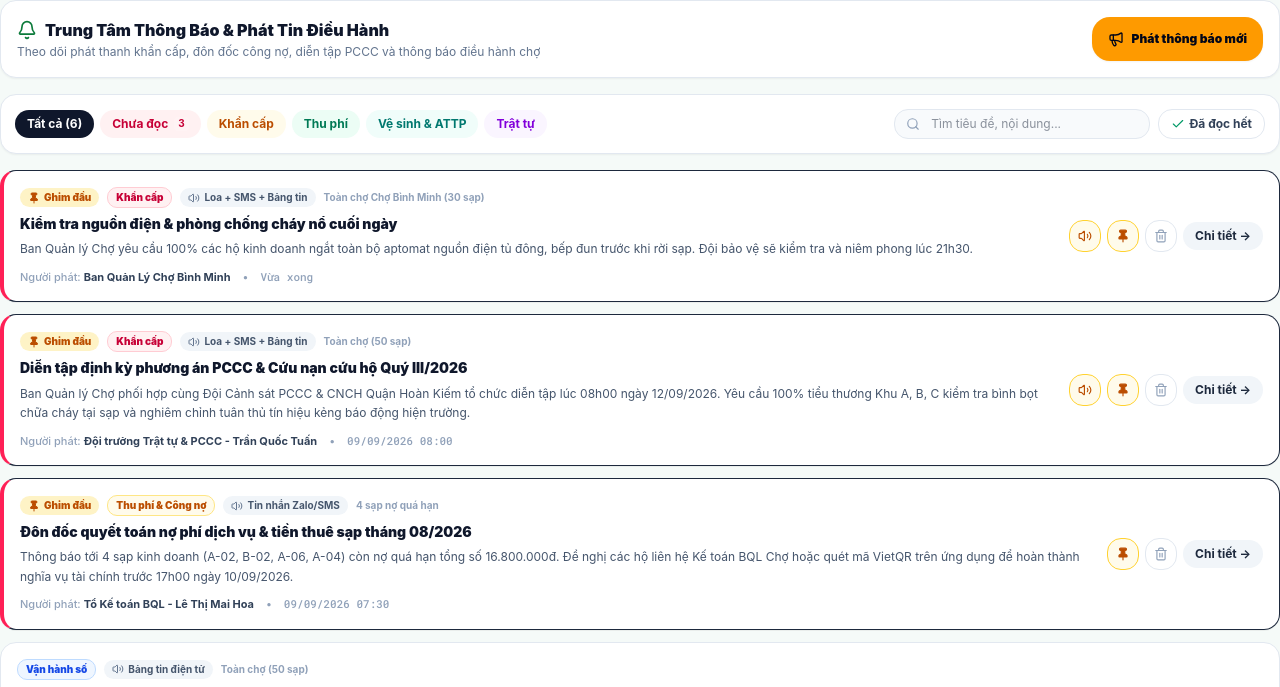
Test: Controlled Repairs Verification Suite (F-01, F-02, F-03) › B-06: filters notifications by category tabs including sanitation and order
Note: Click filter "Vệ sinh & ATTP"
Click the button "Vệ sinh & ATTP" at x=422, y=124, box [366,110,478,138]
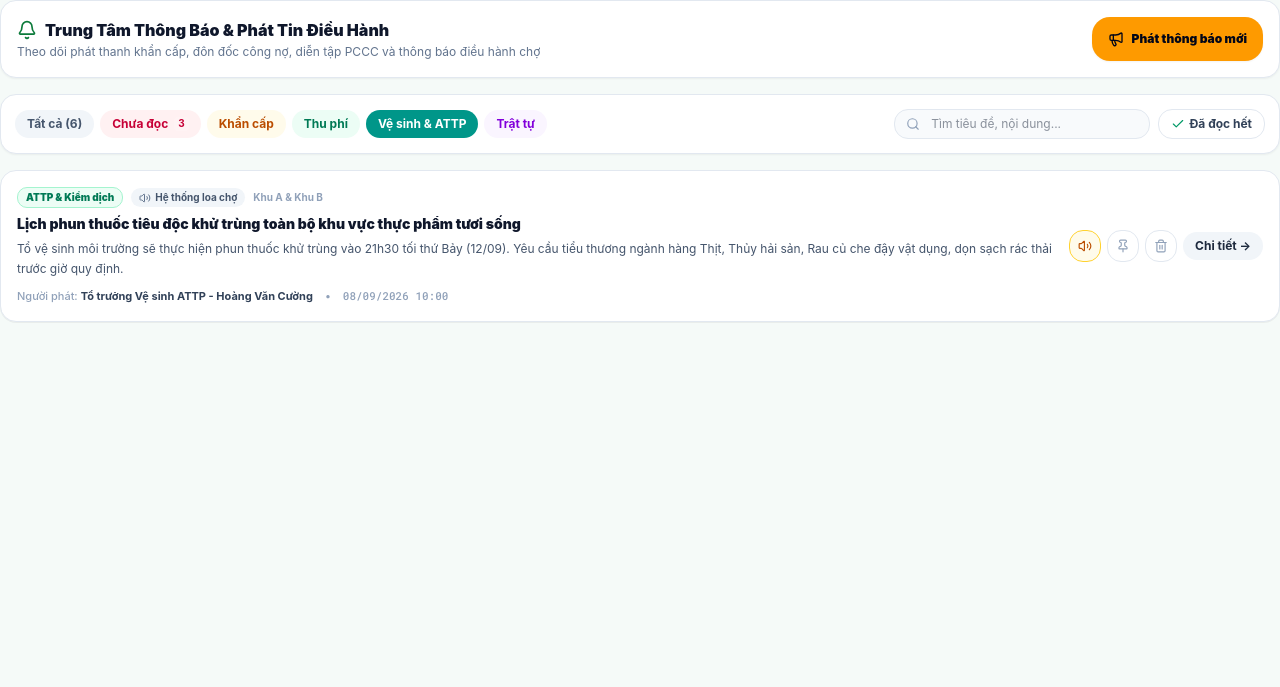
Expected: the heading "Lịch phun thuốc tiêu độc khử trùng" is shown, [17,215,521,232]
Note: Click filter "Trật tự"
Click the button "Trật tự" at x=516, y=124, box [484,110,547,138]
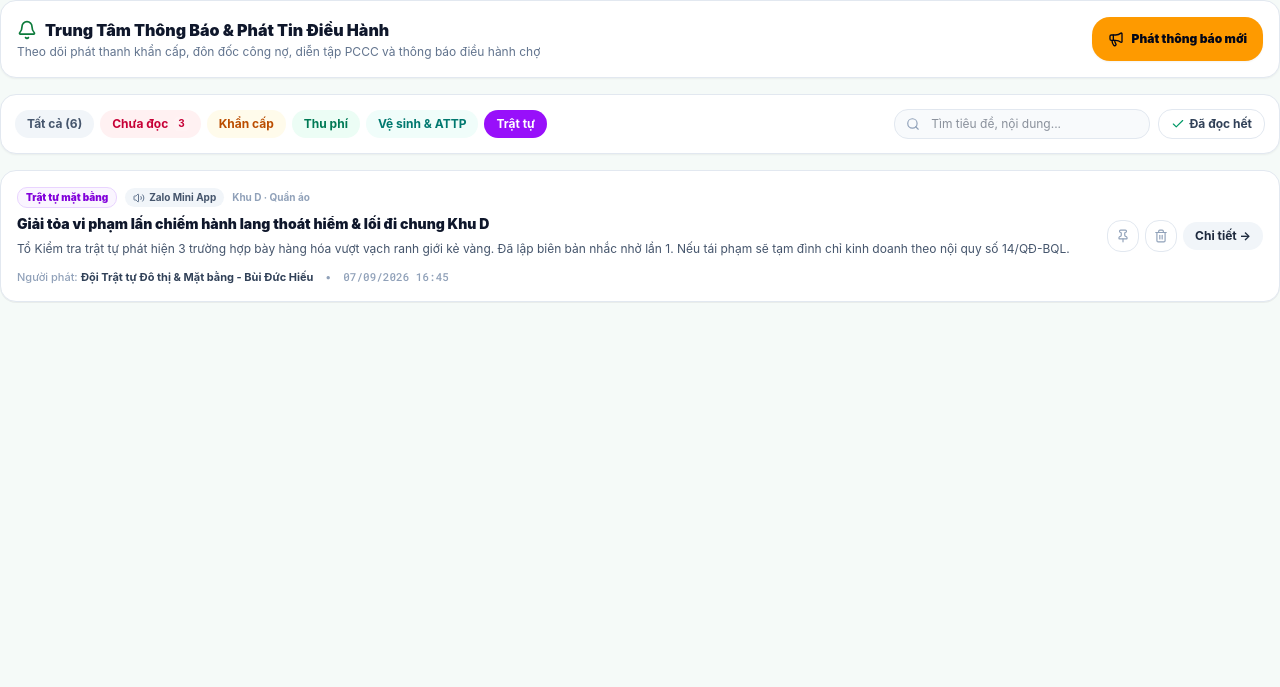
Expected: the heading "Giải tỏa vi phạm lấn chiếm" is shown, [17,215,489,232]
